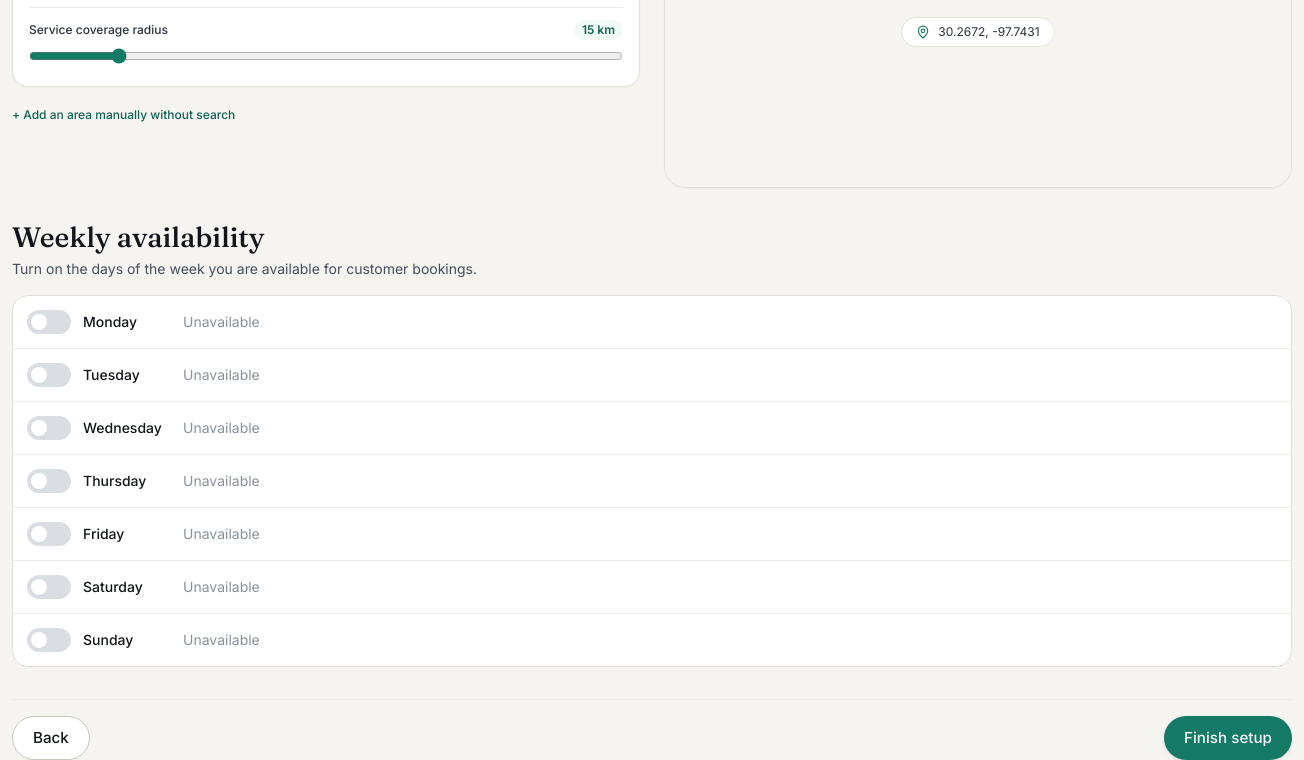
Test: StepServiceArea › blocks finishing without at least one available day
(page scrolled)
Click the button "Finish setup" at (1228, 738), box [1164,716,1292,759]
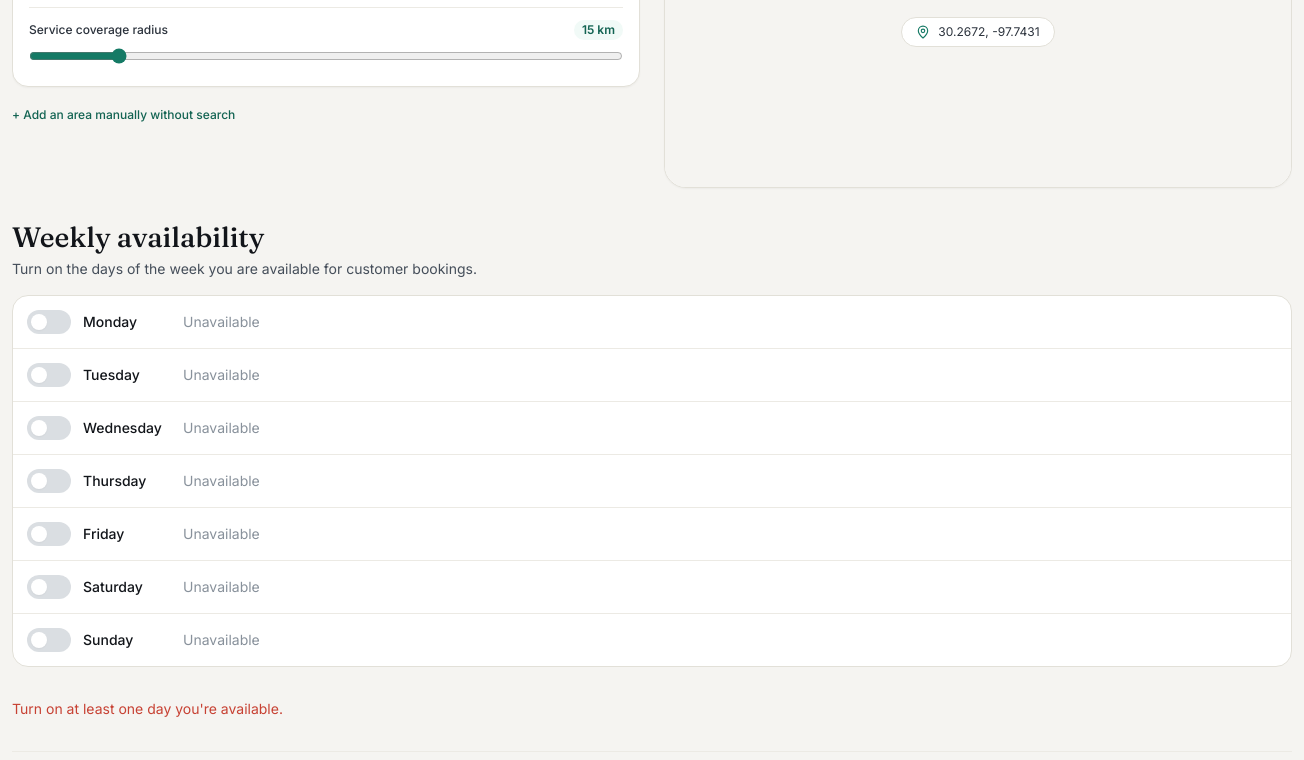
Result: the text "Turn on at least one day you're available." is shown at [12,700,283,717]
